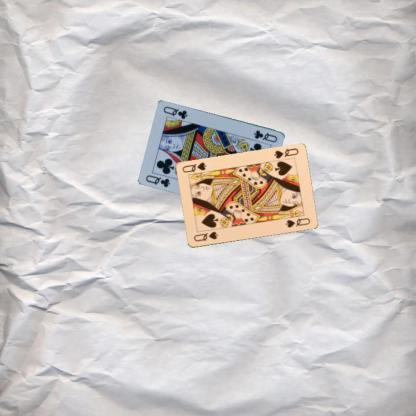Qc: (143, 172, 172, 189), (251, 127, 278, 143)
Qs: (191, 228, 219, 243), (272, 146, 299, 160)
